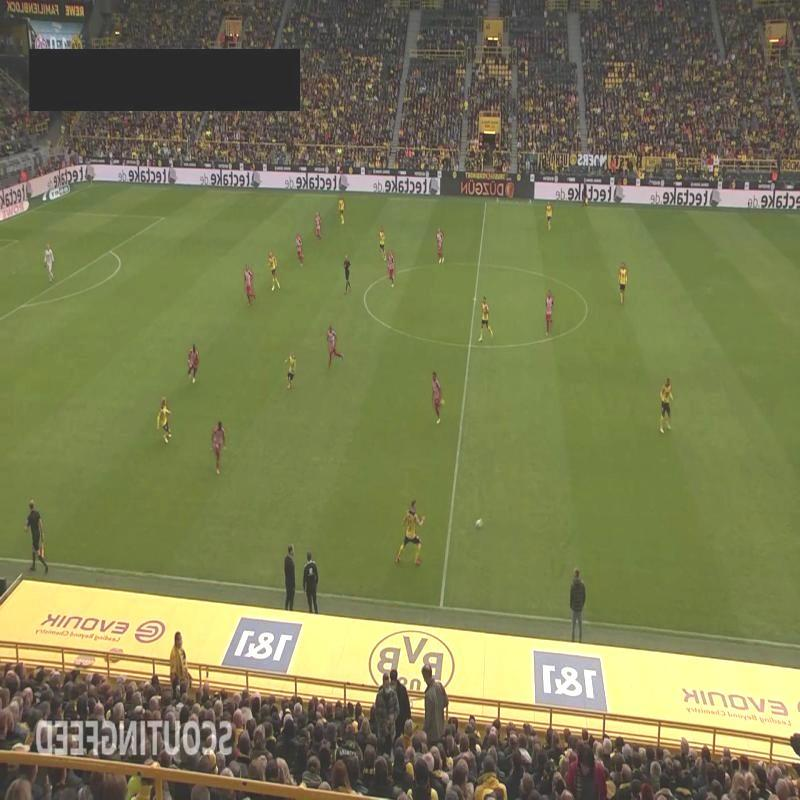1: (86, 177, 100, 191)
10: (103, 245, 118, 259)
11: (16, 300, 30, 314)
13: (478, 194, 493, 208)
14: (472, 256, 486, 270)
15: (463, 338, 477, 352)
16: (432, 597, 451, 617)
2: (26, 202, 40, 216)
7: (11, 234, 25, 247)
9: (158, 211, 172, 225)
c: (578, 299, 594, 314), (358, 288, 372, 301)
